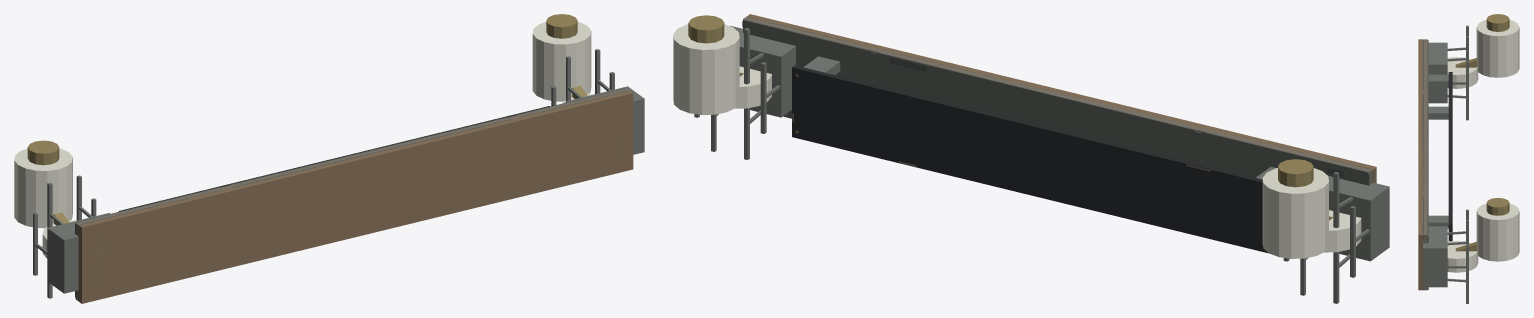
File: conservatory-landing-fittings.glb
The picture shows the model from 3 angles, left to right: view 1: azimuth 30°, elevation 25°; view 2: azimuth 150°, elevation 25°; view 3: azimuth 270°, elevation 25°; orthographic projection. The views are drawn at different scales.
Visible parts, largest first — view 1: stair_sconce_pair_opal, stair_bulkhead_pair; view 2: stair_sconce_pair_opal, stair_bulkhead_pair; view 3: stair_sconce_pair_opal, stair_bulkhead_pair.
Boxes of the visible parts, left/top/right/bottom form: stair_sconce_pair_opal: left=14, top=14, right=633, bottom=303; stair_bulkhead_pair: left=33, top=49, right=644, bottom=301; stair_sconce_pair_opal: left=673, top=14, right=1376, bottom=258; stair_bulkhead_pair: left=694, top=16, right=1389, bottom=303; stair_sconce_pair_opal: left=1418, top=14, right=1519, bottom=290; stair_bulkhead_pair: left=1423, top=25, right=1478, bottom=303.
Bounding box in the file's own units: 3.18 × 0.6886 × 0.66.
